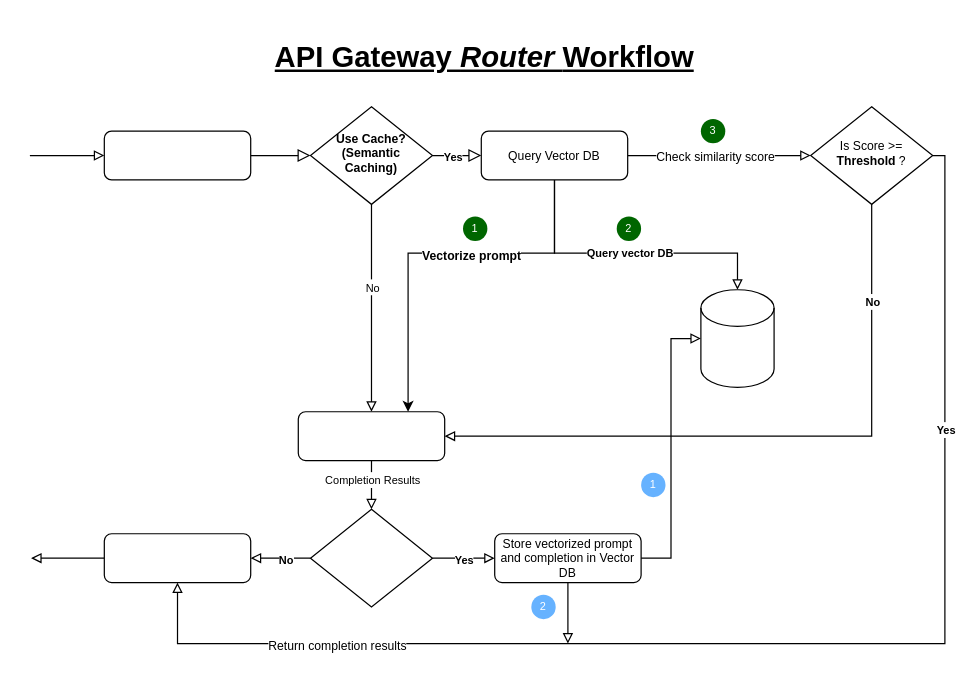
Some shapes in this 976 by 675 pixel diagram are drawn without their labels. The shapes that lost their labels are listed below. From the top down, each one's centre as x and y in pixels, then its label:
pixel 177 155: API Request Endpoint : /lb/{AI-APP_NAME}
pixel 737 338: Vector DB
pixel 371 436: Call Azure OpenAI API
pixel 177 558: API Response
pixel 370 557: Use Cache?
